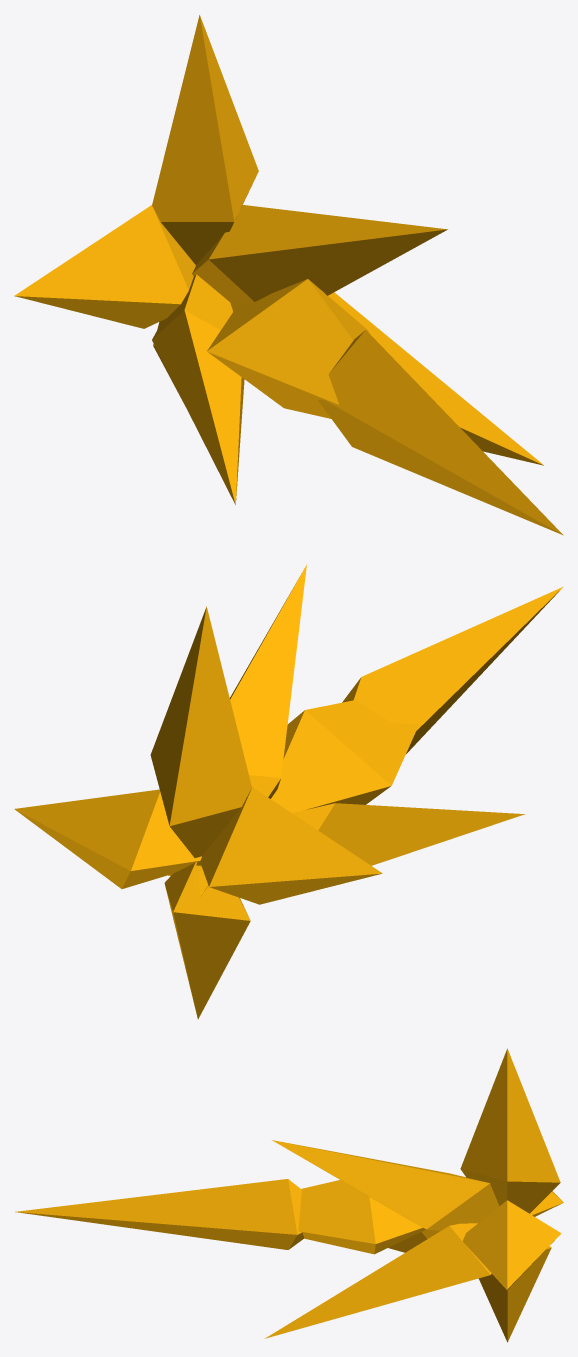
The model's file is BigMuzzleFlash.glb.
3 views of the same model, one above another, from view 1: azimuth 30°, elevation 25°; view 2: azimuth 150°, elevation 25°; view 3: azimuth 270°, elevation 25° (orthographic). The views are drawn at different scales.
Visible parts, largest first — view 1: Cube.001; view 2: Cube.001; view 3: Cube.001.
Boxes of the visible parts, x1,y1,x2,y2 form: Cube.001: [14, 15, 563, 535]; Cube.001: [14, 564, 563, 1019]; Cube.001: [15, 1048, 563, 1342].
Bounding box in the file's own units: 1.06 × 1.14 × 1.95.
Materials: 2 (1 with a texture image).
